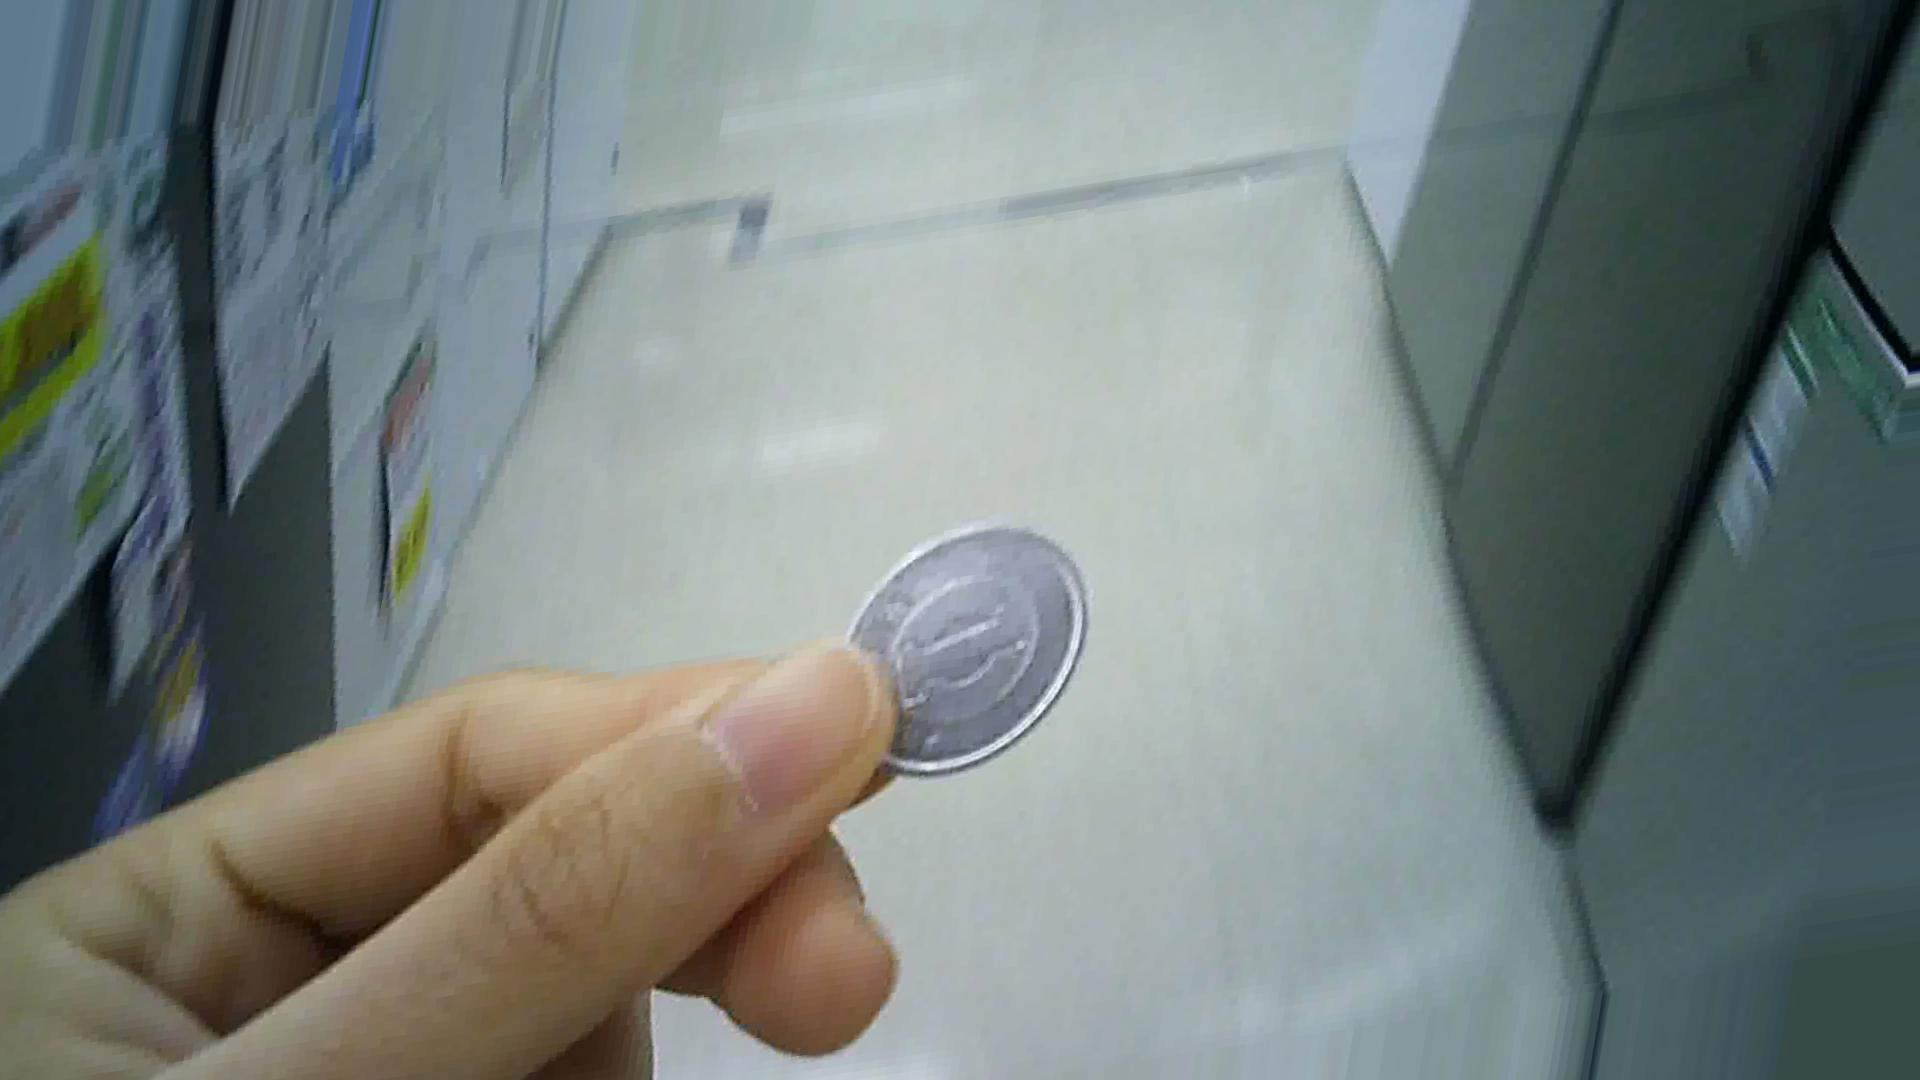1 Yen: (829, 510, 1106, 771)
